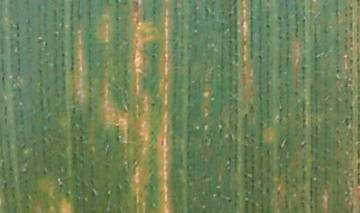tarspot: (355, 146, 360, 186), (299, 63, 305, 81), (39, 167, 49, 175), (148, 100, 156, 109), (203, 6, 209, 18), (343, 116, 350, 126), (90, 188, 97, 197), (264, 185, 270, 195), (257, 120, 264, 128), (133, 1, 141, 8), (225, 196, 233, 203), (276, 14, 283, 21), (150, 52, 156, 59), (264, 23, 271, 29), (78, 133, 83, 141), (356, 1, 360, 6)
